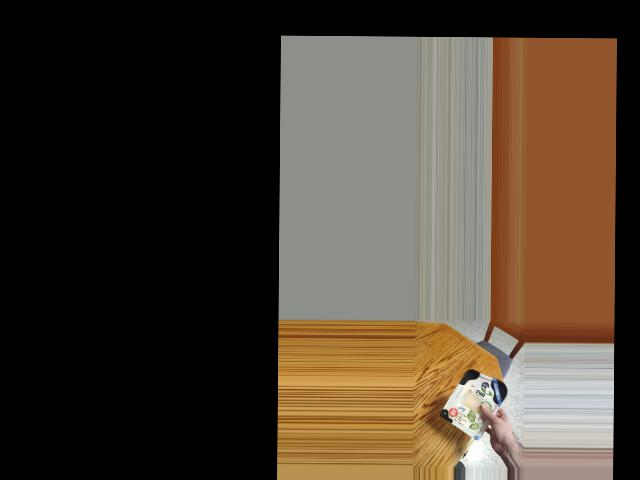cheese: (445, 363, 507, 431)
